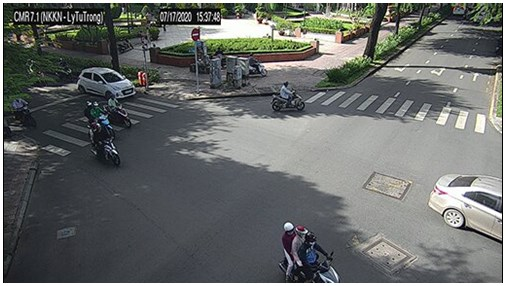xe_hoi: (427, 173, 502, 241), (77, 67, 136, 98)
xe_may: (280, 222, 342, 283), (88, 123, 122, 167), (84, 101, 115, 138), (273, 81, 305, 112), (105, 95, 132, 129), (13, 96, 36, 128), (25, 60, 46, 87), (54, 57, 75, 81), (245, 55, 266, 76), (118, 37, 133, 54)
